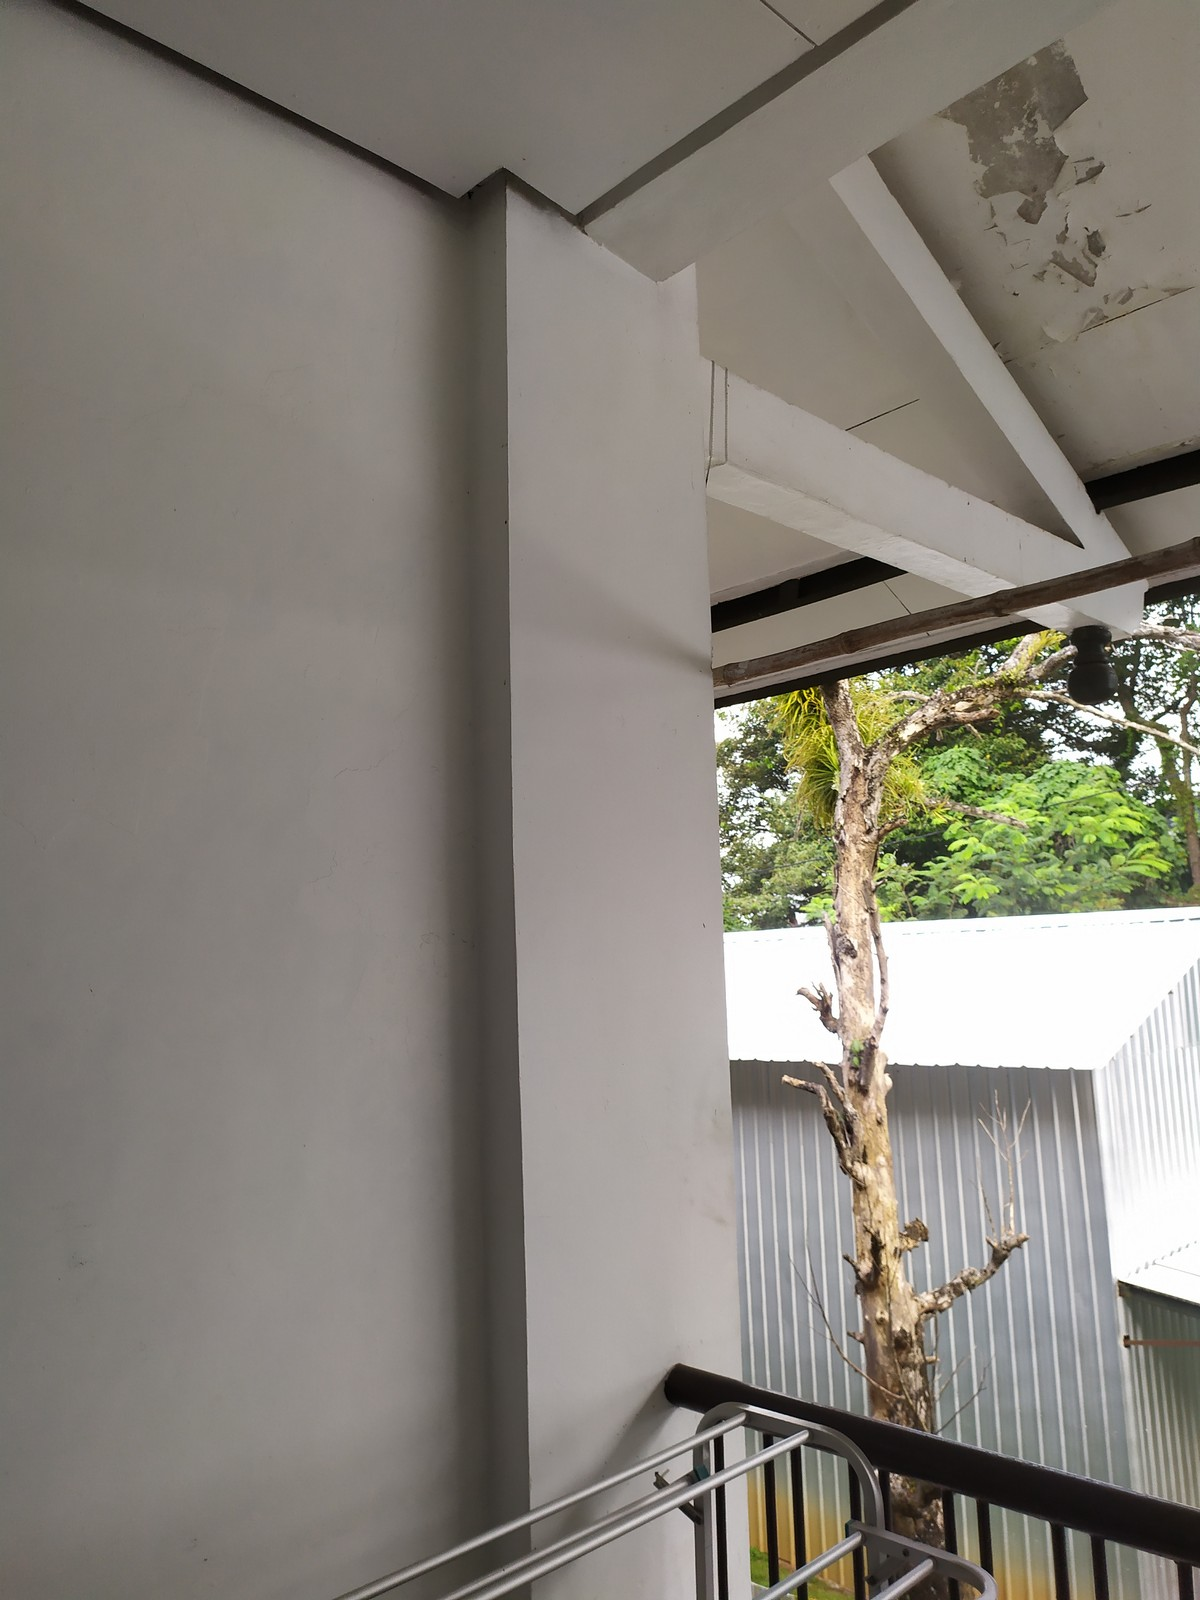concrete beam: (684, 341, 1051, 627)
concrete column: (434, 163, 768, 1465)
